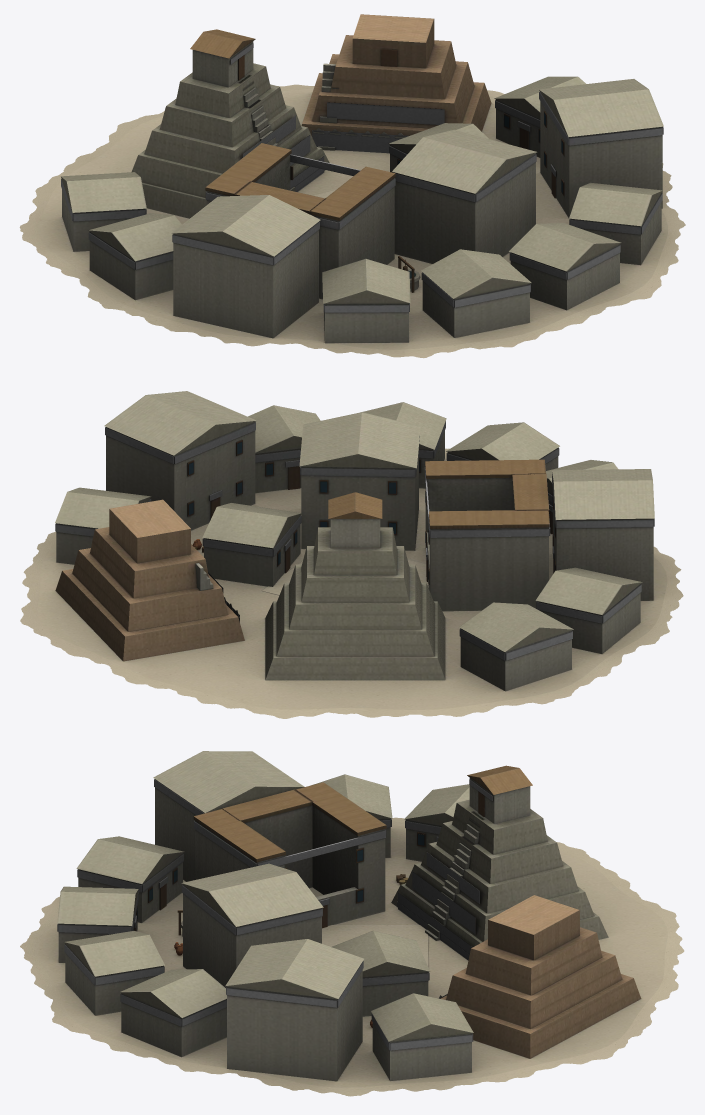
Rendered from classical-town-medium-a-americas.glb.
3 renders of one model, top to bottom at view 1: azimuth 30°, elevation 25°; view 2: azimuth 150°, elevation 25°; view 3: azimuth 270°, elevation 25°, orthographic.
Parts seen in each view (by area): view 1: LOD0; view 2: LOD0; view 3: LOD0.
Boxes of the visible parts, box(x1,y1,x2,y2) form: LOD0: box(19, 14, 685, 358); LOD0: box(20, 391, 683, 718); LOD0: box(20, 751, 684, 1096).
Size of what is drawn, in the model's own units: 5.94 by 1.45 by 5.94.
3 materials, 3 textured.
